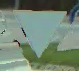Give way: (4, 1, 78, 67)
